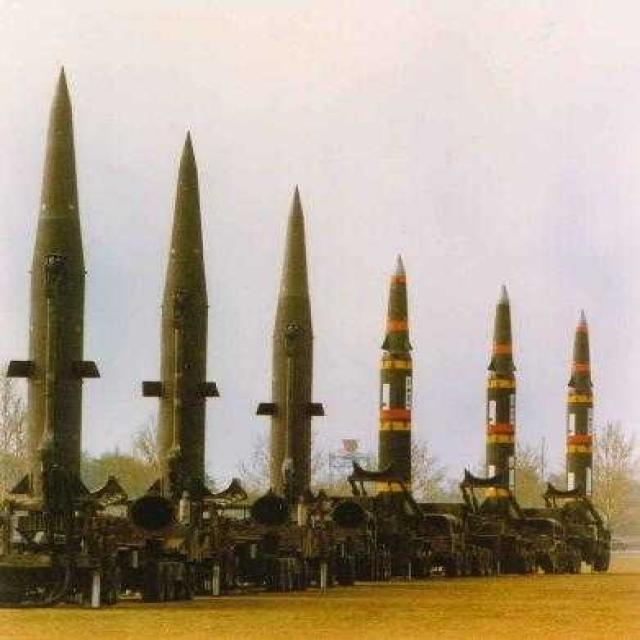missile: (20, 62, 119, 556), (148, 130, 230, 556), (261, 180, 325, 510), (372, 256, 428, 506), (483, 277, 525, 504), (563, 308, 606, 512)
